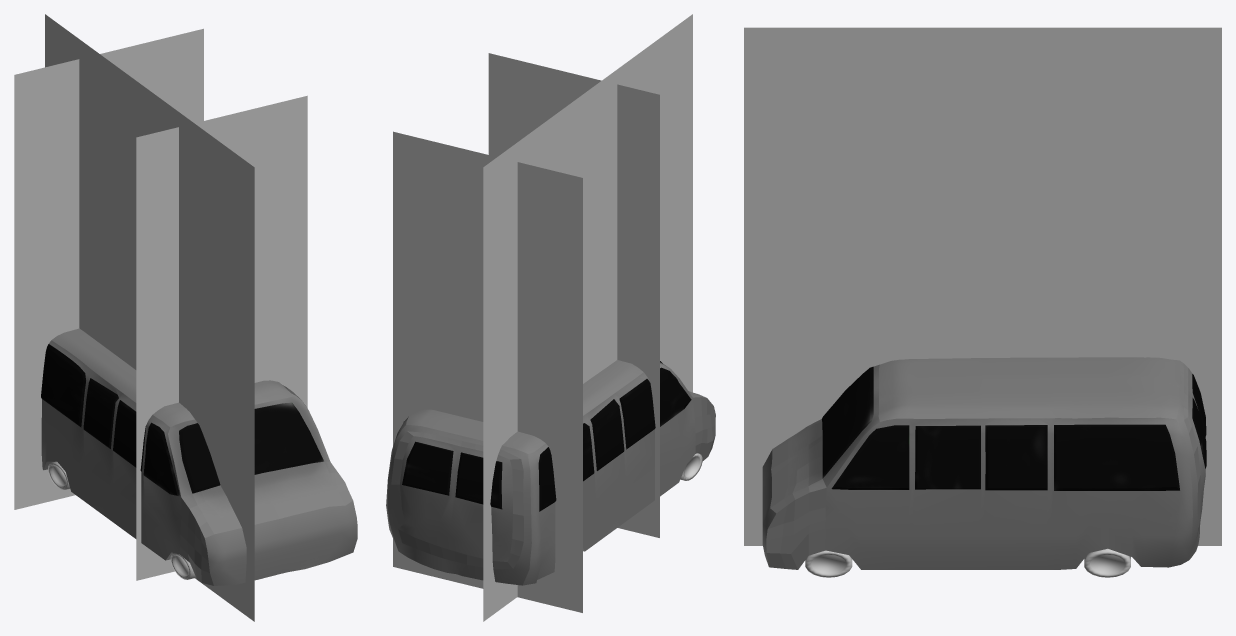
File: PassengerVanFinal.FBX
3 renders of one model, left to right at view 1: azimuth 30°, elevation 25°; view 2: azimuth 150°, elevation 25°; view 3: azimuth 270°, elevation 25°, orthographic. The views are drawn at different scales.
Parts seen in each view (by area): view 1: Side_Ref, Van, Front_Ref, Back_Ref; view 2: Back_Ref, Side_Ref, Van, Front_Ref; view 3: Side_Ref, Van, Back_RT_Wheel, Front_RT_Wheel.
Boxes of the visible parts, left/top/right/bottom form: Side_Ref: left=45, top=14, right=254, bottom=621; Van: left=41, top=328, right=357, bottom=585; Front_Ref: left=136, top=95, right=307, bottom=580; Back_Ref: left=14, top=28, right=203, bottom=509; Back_Ref: left=393, top=131, right=582, bottom=612; Side_Ref: left=483, top=14, right=692, bottom=621; Van: left=386, top=360, right=715, bottom=585; Front_Ref: left=488, top=53, right=659, bottom=537; Side_Ref: left=744, top=27, right=1221, bottom=545; Van: left=762, top=357, right=1206, bottom=569; Back_RT_Wheel: left=1084, top=548, right=1130, bottom=577; Front_RT_Wheel: left=805, top=550, right=852, bottom=577.
Size of the model in its own units: 124 by 280 by 232.
